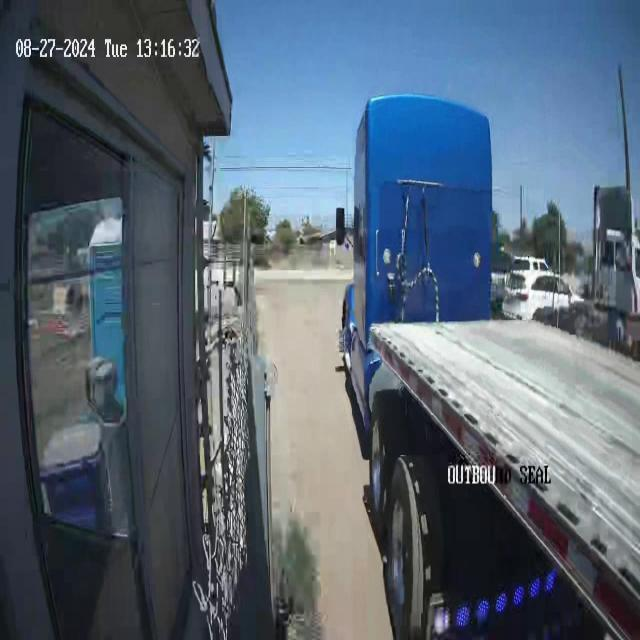TRUCK_OUT: (339, 90, 639, 638)
